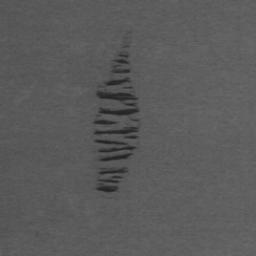Secondary rust skin: (91, 49, 141, 193)
